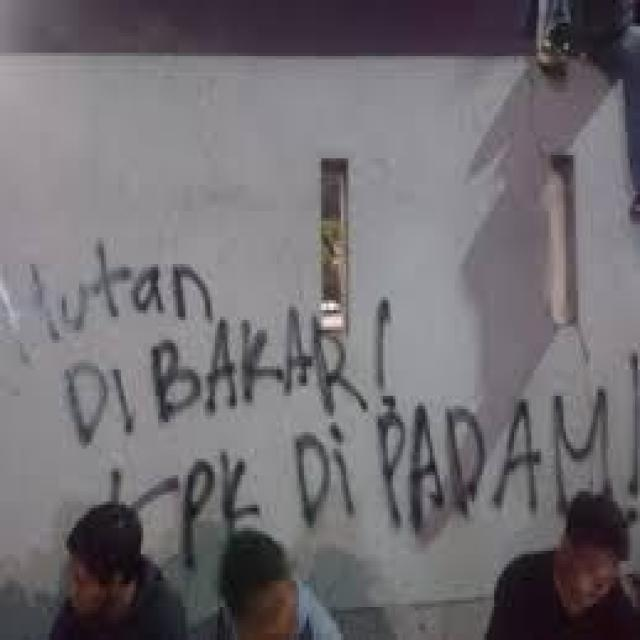nonspitting: (111, 350, 640, 564), (0, 234, 390, 442)
